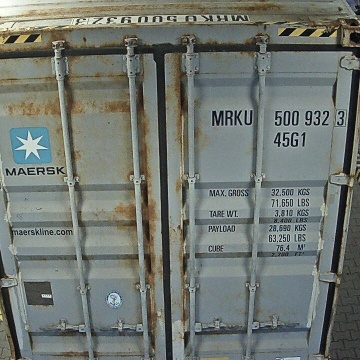serial_id: (212, 109, 346, 125)
